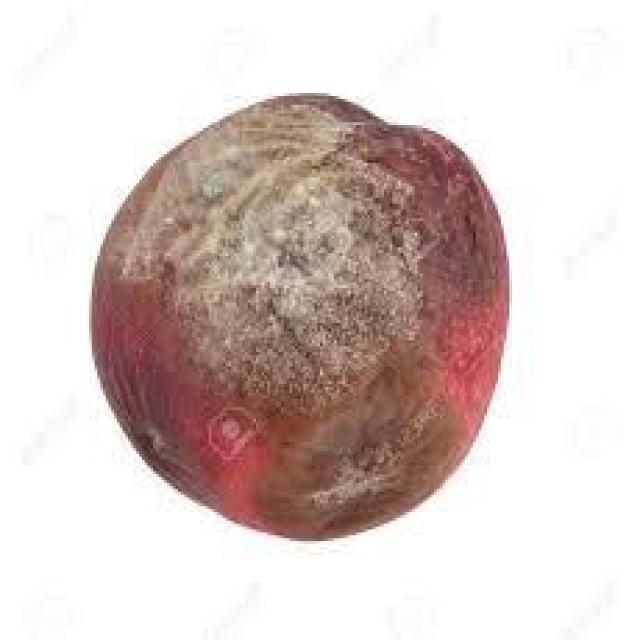organic: (86, 93, 512, 544)
